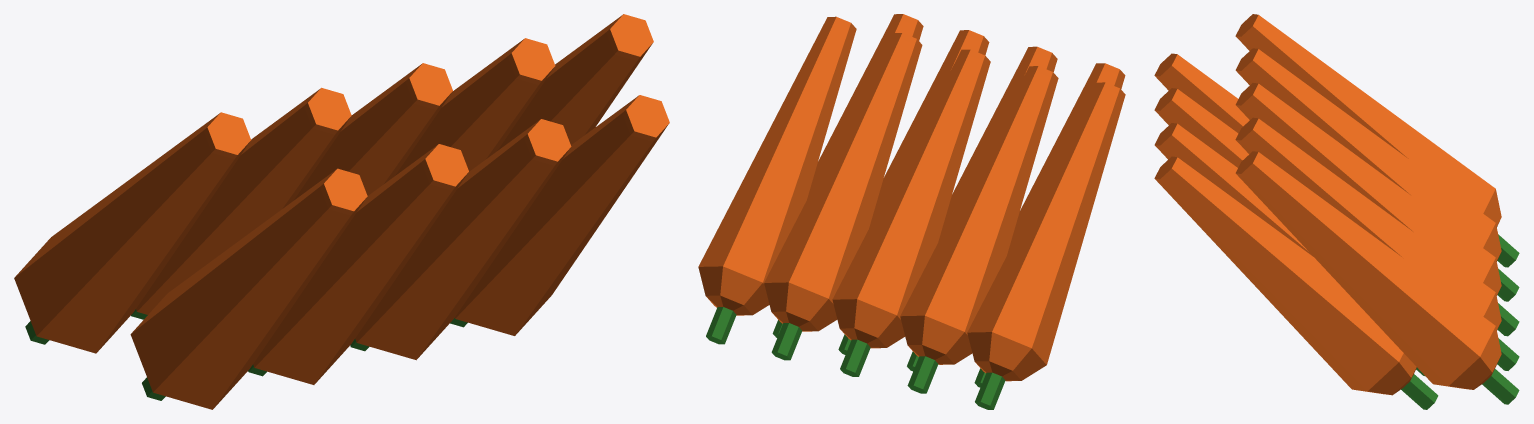
File: carrotStackPetit.fbx
3 views of the same model, side by side, from view 1: azimuth 30°, elevation 25°; view 2: azimuth 150°, elevation 25°; view 3: azimuth 270°, elevation 25° (orthographic). The views are drawn at different scales.
Parts seen in each view (by area): view 1: Cylinder.016, Cylinder.003, Cylinder.001, Cylinder.002, Cylinder, Cylinder.020, Cylinder.022, Cylinder.021, Cylinder.023; view 2: Cylinder.016, Cylinder.022, Cylinder.021, Cylinder.020, Cylinder.023, Cylinder.001, Cylinder.002, Cylinder.003, Cylinder; view 3: Cylinder.023, Cylinder, Cylinder.021, Cylinder.020, Cylinder.016, Cylinder.022, Cylinder.001, Cylinder.003, Cylinder.002.
Part boxes in pixels (x1,y1,x2,y2): Cylinder.016: [14, 112, 250, 353]; Cylinder.003: [130, 168, 367, 409]; Cylinder.001: [350, 119, 571, 360]; Cylinder.002: [248, 144, 468, 384]; Cylinder: [450, 95, 669, 335]; Cylinder.020: [131, 87, 351, 319]; Cylinder.022: [395, 38, 555, 175]; Cylinder.021: [293, 63, 452, 200]; Cylinder.023: [497, 14, 653, 150]; Cylinder.016: [967, 82, 1125, 409]; Cylinder.022: [764, 33, 922, 360]; Cylinder.021: [832, 49, 990, 376]; Cylinder.020: [900, 66, 1058, 393]; Cylinder.023: [698, 16, 856, 344]; Cylinder.001: [838, 30, 989, 354]; Cylinder.002: [907, 46, 1057, 371]; Cylinder.003: [974, 63, 1125, 387]; Cylinder: [772, 14, 923, 337]; Cylinder.023: [1235, 151, 1519, 404]; Cylinder: [1154, 156, 1438, 409]; Cylinder.021: [1235, 83, 1519, 336]; Cylinder.020: [1235, 48, 1519, 301]; Cylinder.016: [1235, 14, 1519, 267]; Cylinder.022: [1235, 117, 1519, 370]; Cylinder.001: [1154, 123, 1424, 375]; Cylinder.003: [1154, 53, 1249, 133]; Cylinder.002: [1154, 88, 1248, 167].
Size of the model in its own units: 652 by 486 by 592.
